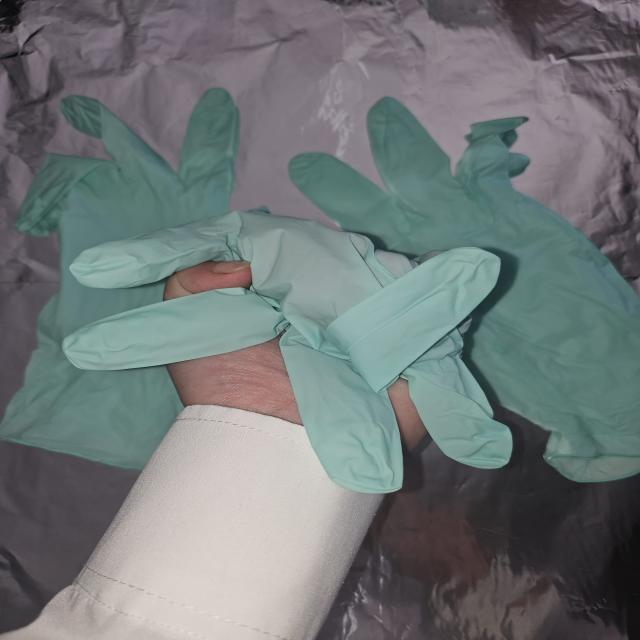glove_partial: (61, 209, 514, 490)
